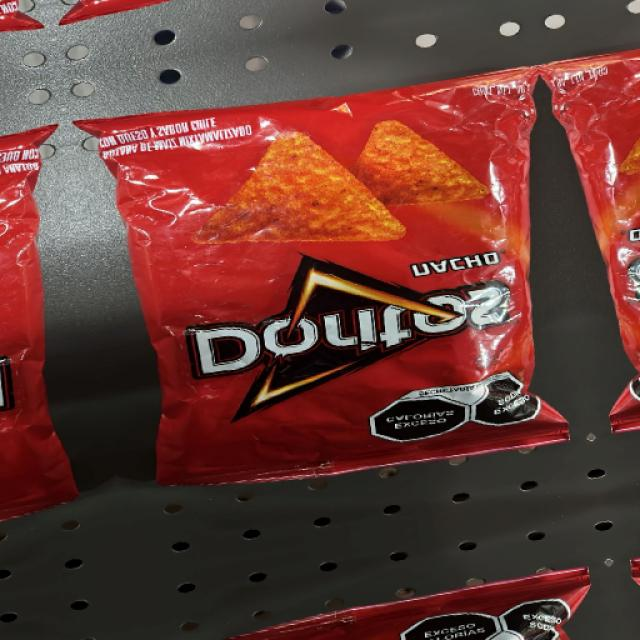doritosNacho: (177, 120, 518, 459)
